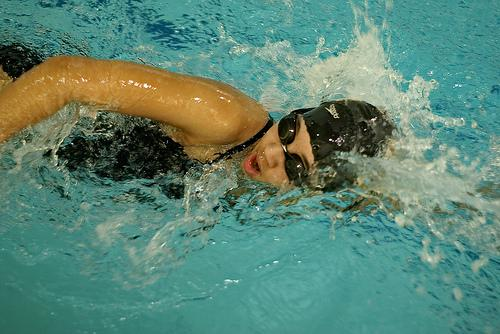swimmer: (0, 56, 490, 202)
